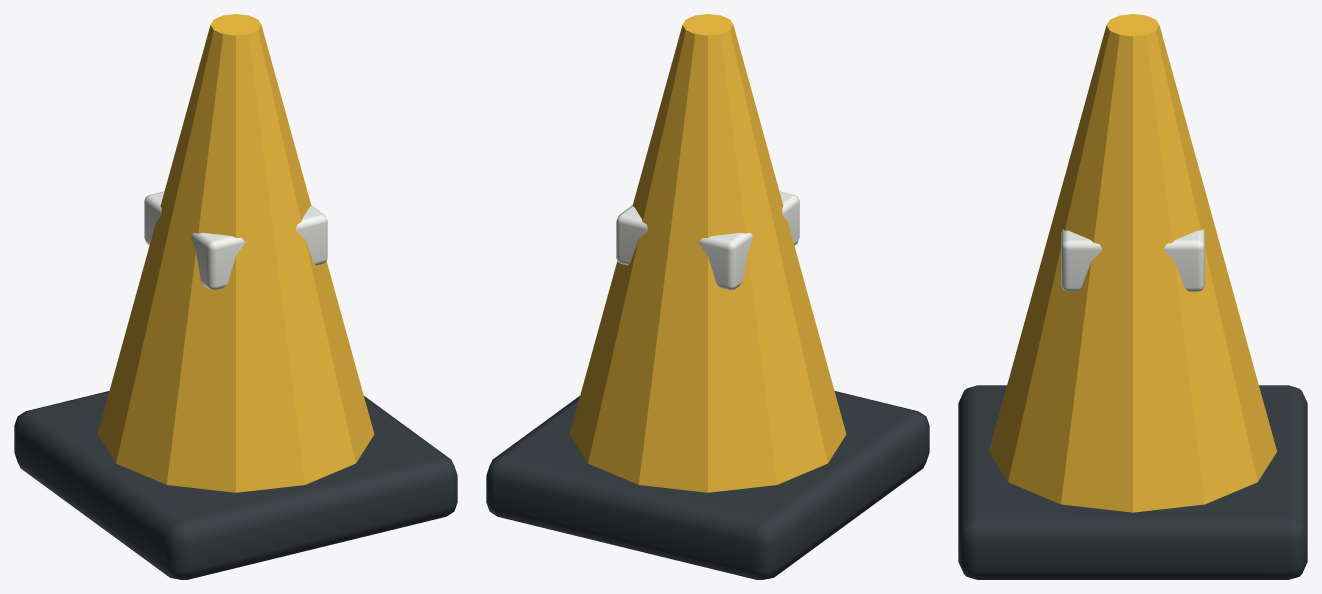
File: Environment_Traffic_Cone.fbx
The picture shows the model from 3 angles, left to right: view 1: azimuth 30°, elevation 25°; view 2: azimuth 150°, elevation 25°; view 3: azimuth 270°, elevation 25°; orthographic projection. The views are drawn at different scales.
Parts seen in each view (by area): view 1: Cone_Body, Cone_Base, Cone_Reflective_Band; view 2: Cone_Body, Cone_Base, Cone_Reflective_Band; view 3: Cone_Body, Cone_Base, Cone_Reflective_Band.
Boxes of the visible parts, left/top/right/bottom form: Cone_Body: left=97, top=14, right=374, bottom=492; Cone_Base: left=14, top=391, right=457, bottom=579; Cone_Reflective_Band: left=144, top=191, right=327, bottom=289; Cone_Body: left=569, top=14, right=846, bottom=492; Cone_Base: left=486, top=391, right=929, bottom=579; Cone_Reflective_Band: left=616, top=191, right=799, bottom=289; Cone_Body: left=989, top=14, right=1276, bottom=512; Cone_Base: left=958, top=385, right=1307, bottom=579; Cone_Reflective_Band: left=1061, top=229, right=1204, bottom=291.
Size of the model in its own units: 0.46 by 0.71 by 0.46.
